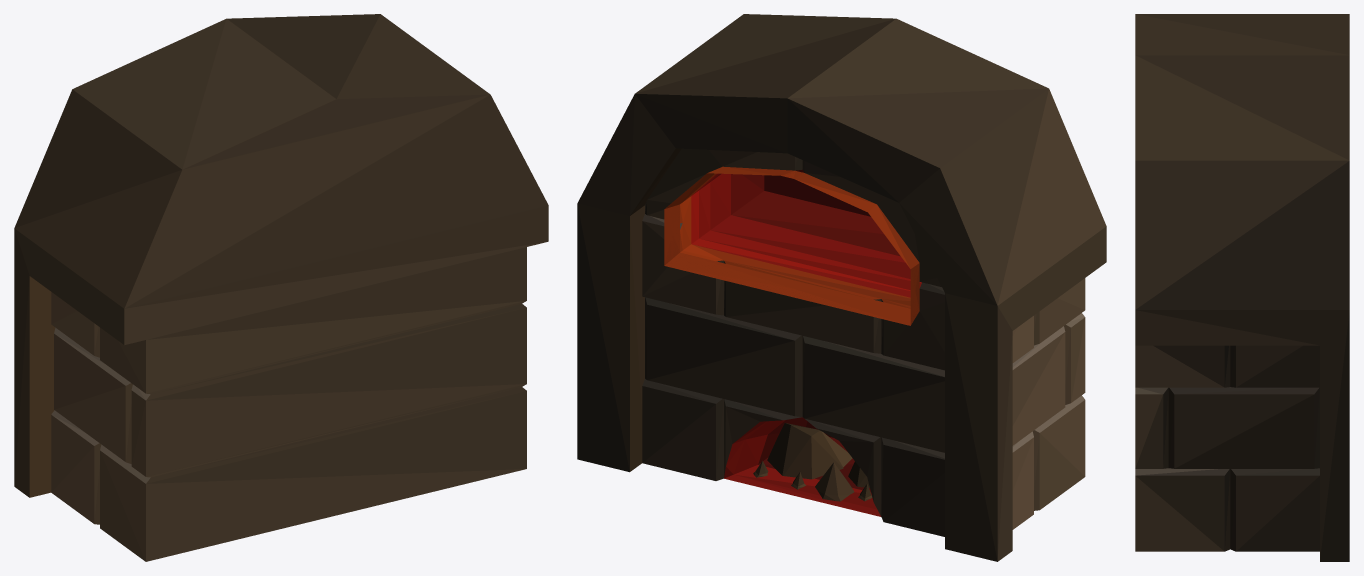
File: furnace.obj
The picture shows the model from 3 angles, left to right: view 1: azimuth 30°, elevation 25°; view 2: azimuth 150°, elevation 25°; view 3: azimuth 270°, elevation 25°; orthographic projection. The views are drawn at different scales.
Parts seen in each view (by area): view 1: Object Pottery Oven 2026-09-13_18-46-40; view 2: Object Pottery Oven 2026-09-13_18-46-40; view 3: Object Pottery Oven 2026-09-13_18-46-40.
Boxes of the visible parts, x1,y1,x2,y2 form: Object Pottery Oven 2026-09-13_18-46-40: (14,14,548,561); Object Pottery Oven 2026-09-13_18-46-40: (577,14,1106,561); Object Pottery Oven 2026-09-13_18-46-40: (1135,14,1349,561).
Size of the model in its own units: 256 by 240 by 115.
